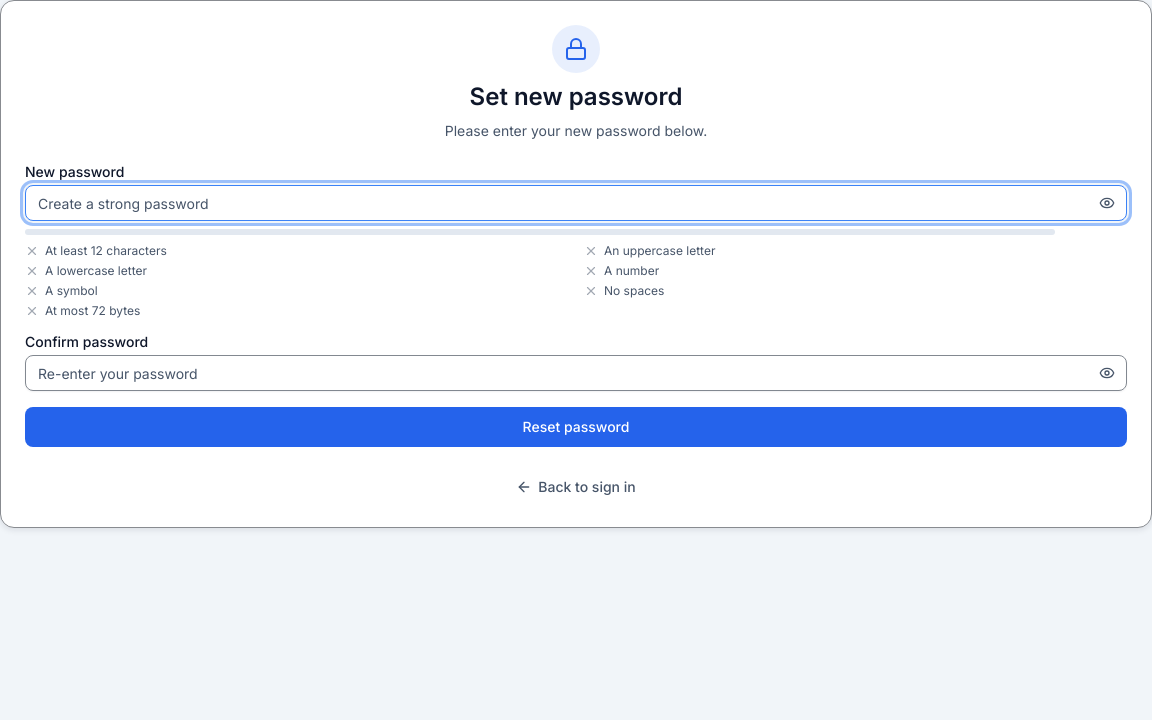
Test: <ResetPassword> › sends the token from the link back in the body, unchanged, and confirms the reset
Type "Sup3r!Secret!Pass" into the password field labelled "New password".
click(576, 203); type("Sup3r!Secret!Pass")  # box left=25, top=185, right=1127, bottom=221
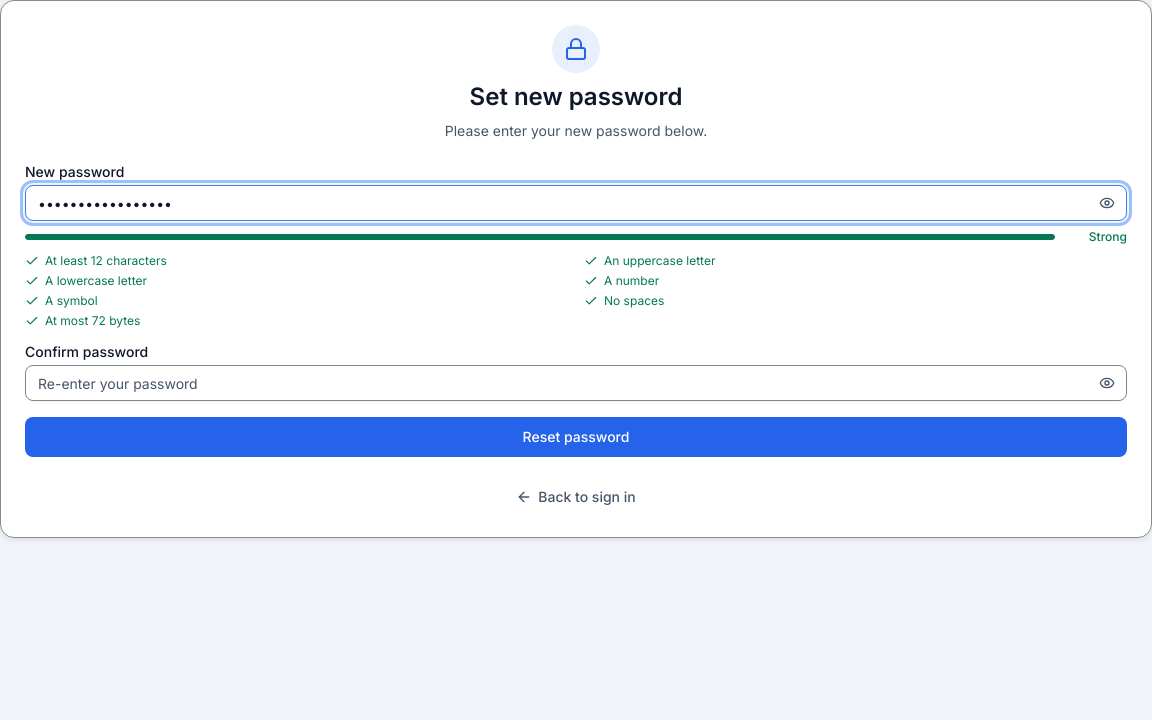
Type "Sup3r!Secret!Pass" into the password field labelled "Confirm password".
click(576, 383); type("Sup3r!Secret!Pass")  # box left=25, top=365, right=1127, bottom=401
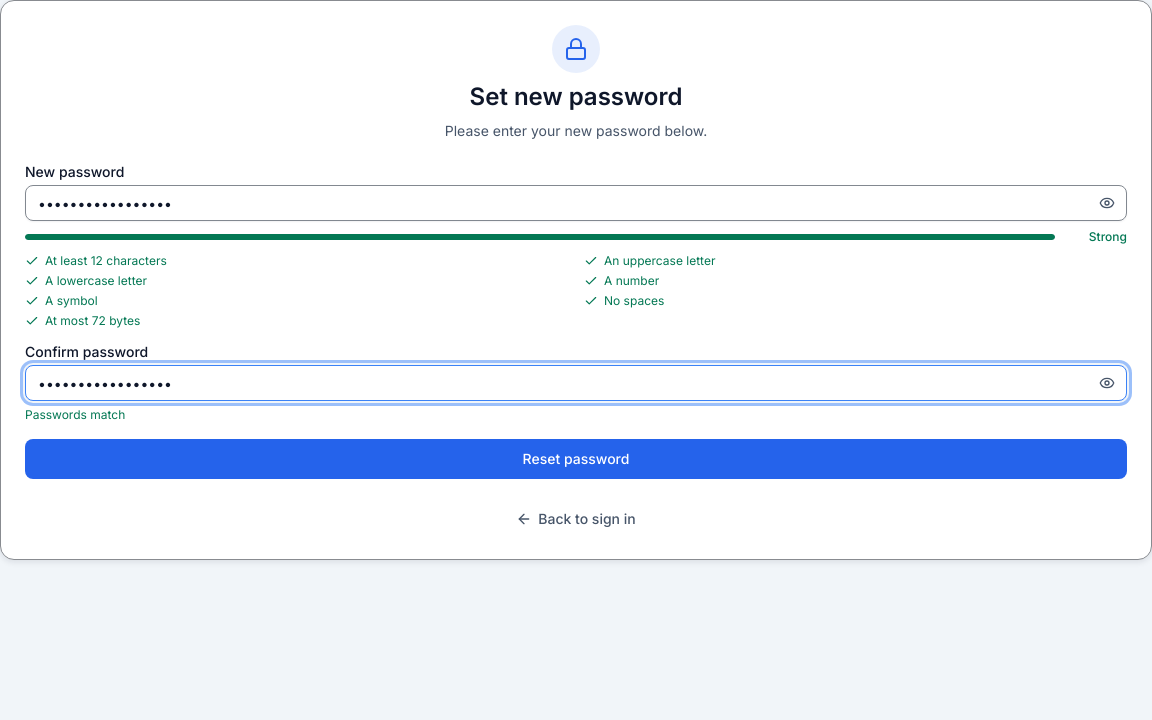
Click the button "Reset password".
click(576, 459)  # box left=25, top=439, right=1127, bottom=479
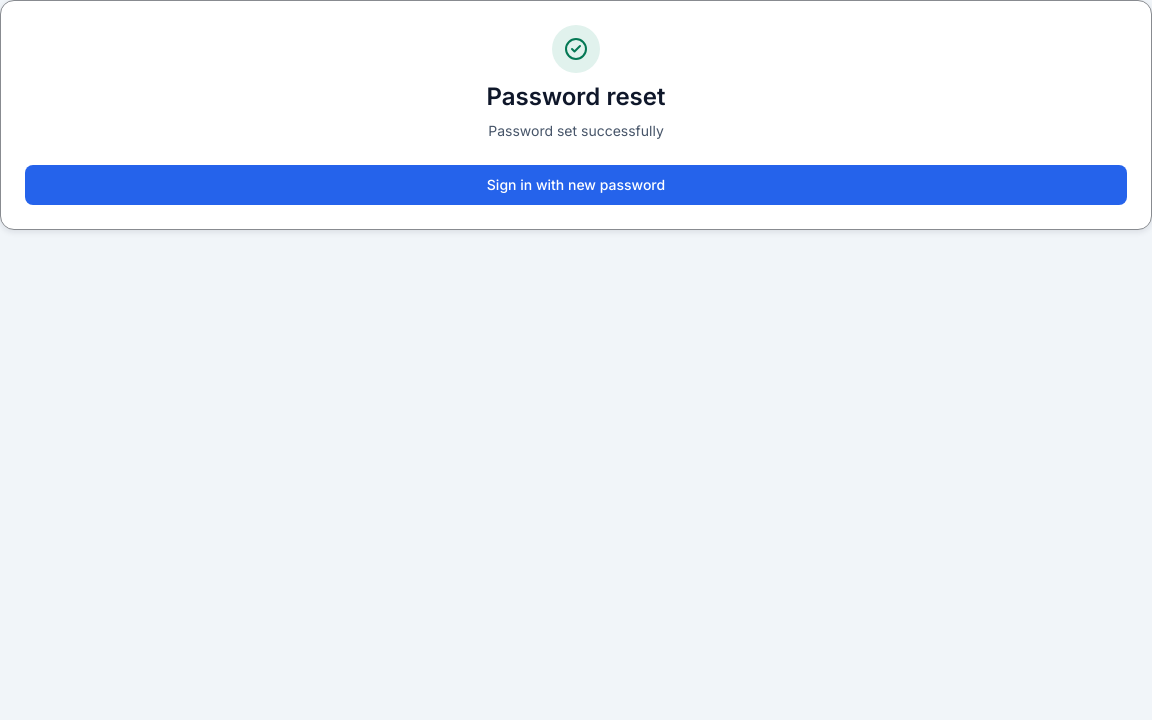
Expected: the text "Password reset" is shown, left=486, top=82, right=665, bottom=111
